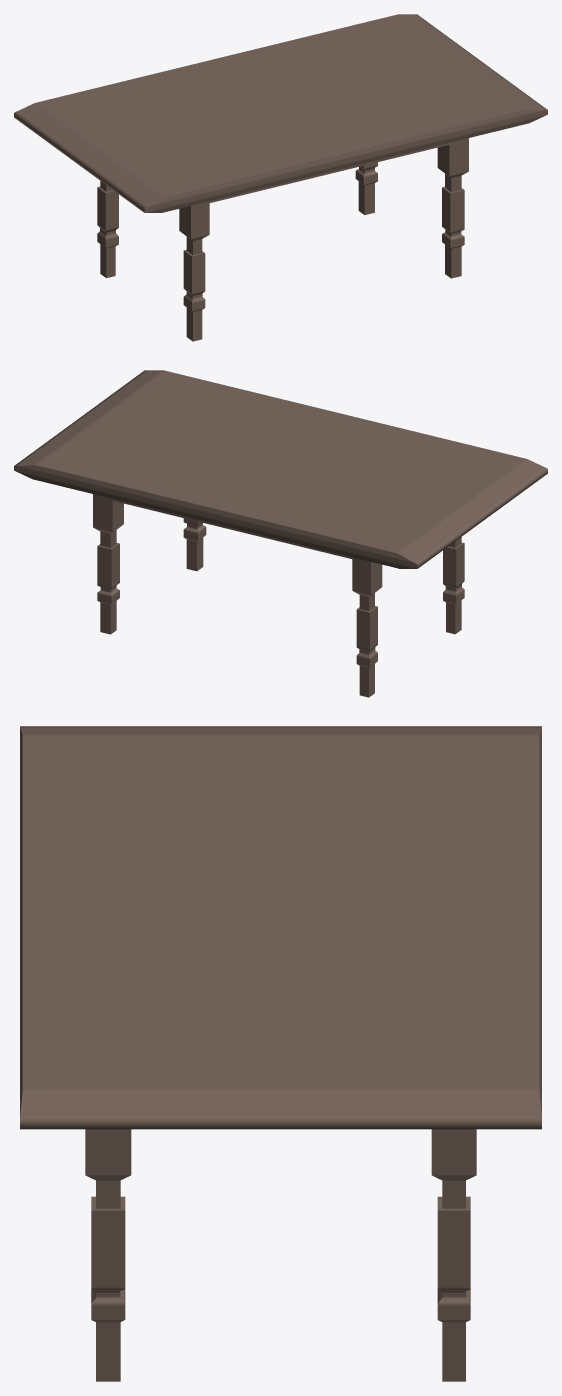
File: Gluttony_Table.fbx
3 renders of one model, top to bottom at view 1: azimuth 30°, elevation 25°; view 2: azimuth 150°, elevation 25°; view 3: azimuth 270°, elevation 25°, orthographic. The views are drawn at different scales.
Parts seen in each view (by area): view 1: Table; view 2: Table; view 3: Table.
Boxes of the visible parts, bbox=[...] form: Table: bbox=[14, 14, 547, 341]; Table: bbox=[14, 370, 547, 697]; Table: bbox=[20, 726, 541, 1381].
Size of the model in its own units: 5.35 by 2.14 by 3.
